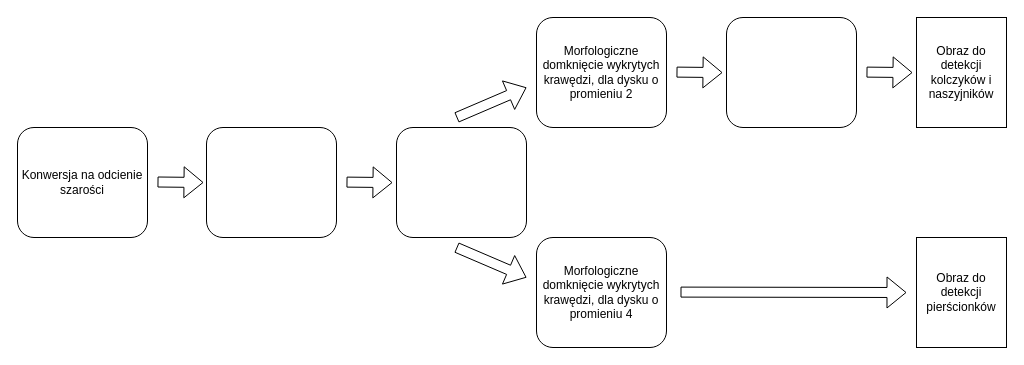
Image size: 1024x365. Some labels were removed from this diagram. The shapes that lost their labels are listed below. From the top down, each one's centre as x and y in pixels, then its label:
At point (791, 72): "Ponowne znalezienie krawędzi i ich wypełnienie".
At point (271, 182): "Rozmycie metodą Gaussa".
At point (461, 182): "Detekcja krawędzi algorytmem Canny'ego".
